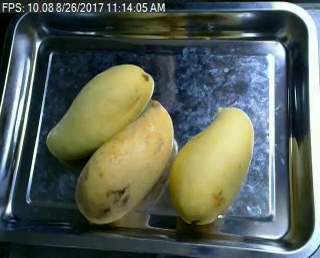Mango: (72, 100, 176, 224), (45, 61, 156, 162), (164, 105, 259, 222)
